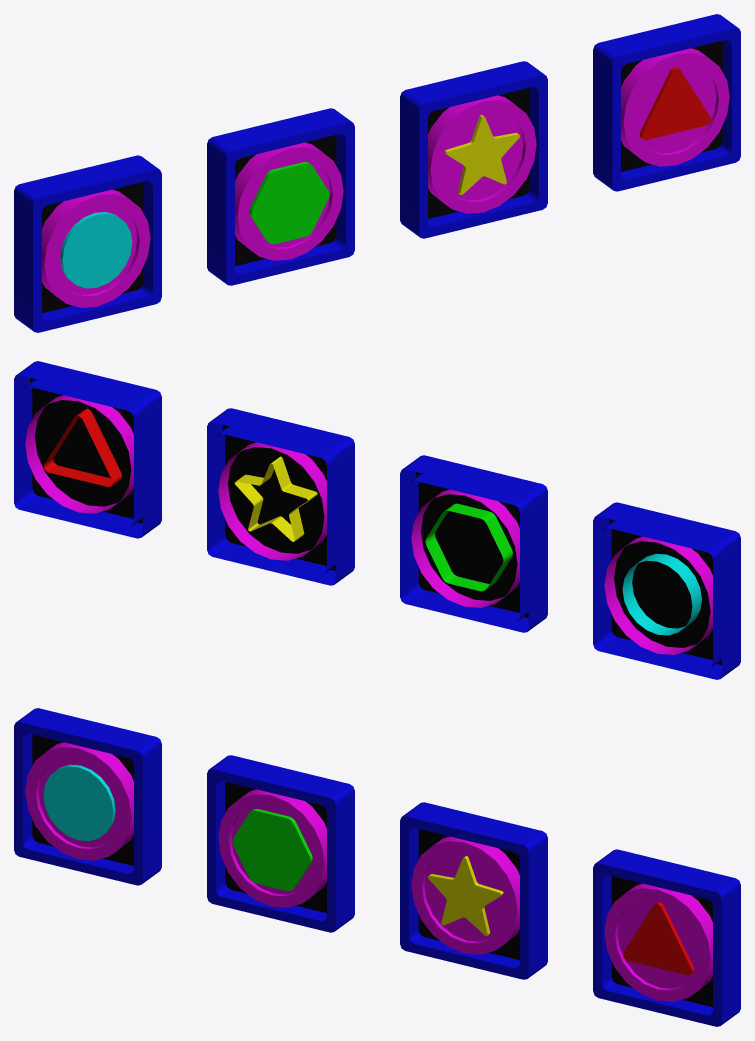
Rendered from Tokens.fbx.
3 views of the same model, one above another, from view 1: azimuth 30°, elevation 25°; view 2: azimuth 150°, elevation 25°; view 3: azimuth 330°, elevation 25° (orthographic).
Parts seen in each view (by area): view 1: tri_token, circle_token, star_token, hex_token; view 2: tri_token, circle_token, star_token, hex_token; view 3: tri_token, circle_token, star_token, hex_token.
Boxes of the visible parts, bbox=[...] form: tri_token: bbox=[593, 14, 740, 191]; circle_token: bbox=[14, 155, 161, 332]; star_token: bbox=[400, 61, 547, 238]; hex_token: bbox=[207, 108, 354, 285]; tri_token: bbox=[14, 361, 161, 538]; circle_token: bbox=[593, 502, 740, 679]; star_token: bbox=[207, 408, 354, 585]; hex_token: bbox=[400, 455, 547, 632]; tri_token: bbox=[593, 849, 740, 1026]; circle_token: bbox=[14, 708, 161, 885]; star_token: bbox=[400, 802, 547, 979]; hex_token: bbox=[207, 755, 354, 932].
Bounding box in the file's own units: 11 × 2 × 0.5156.
